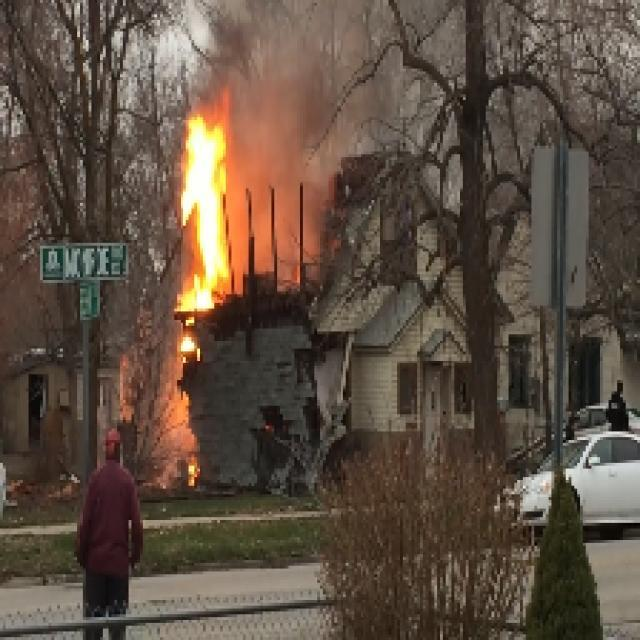Fire: (174, 113, 228, 300)
Smoke: (232, 74, 324, 282)
